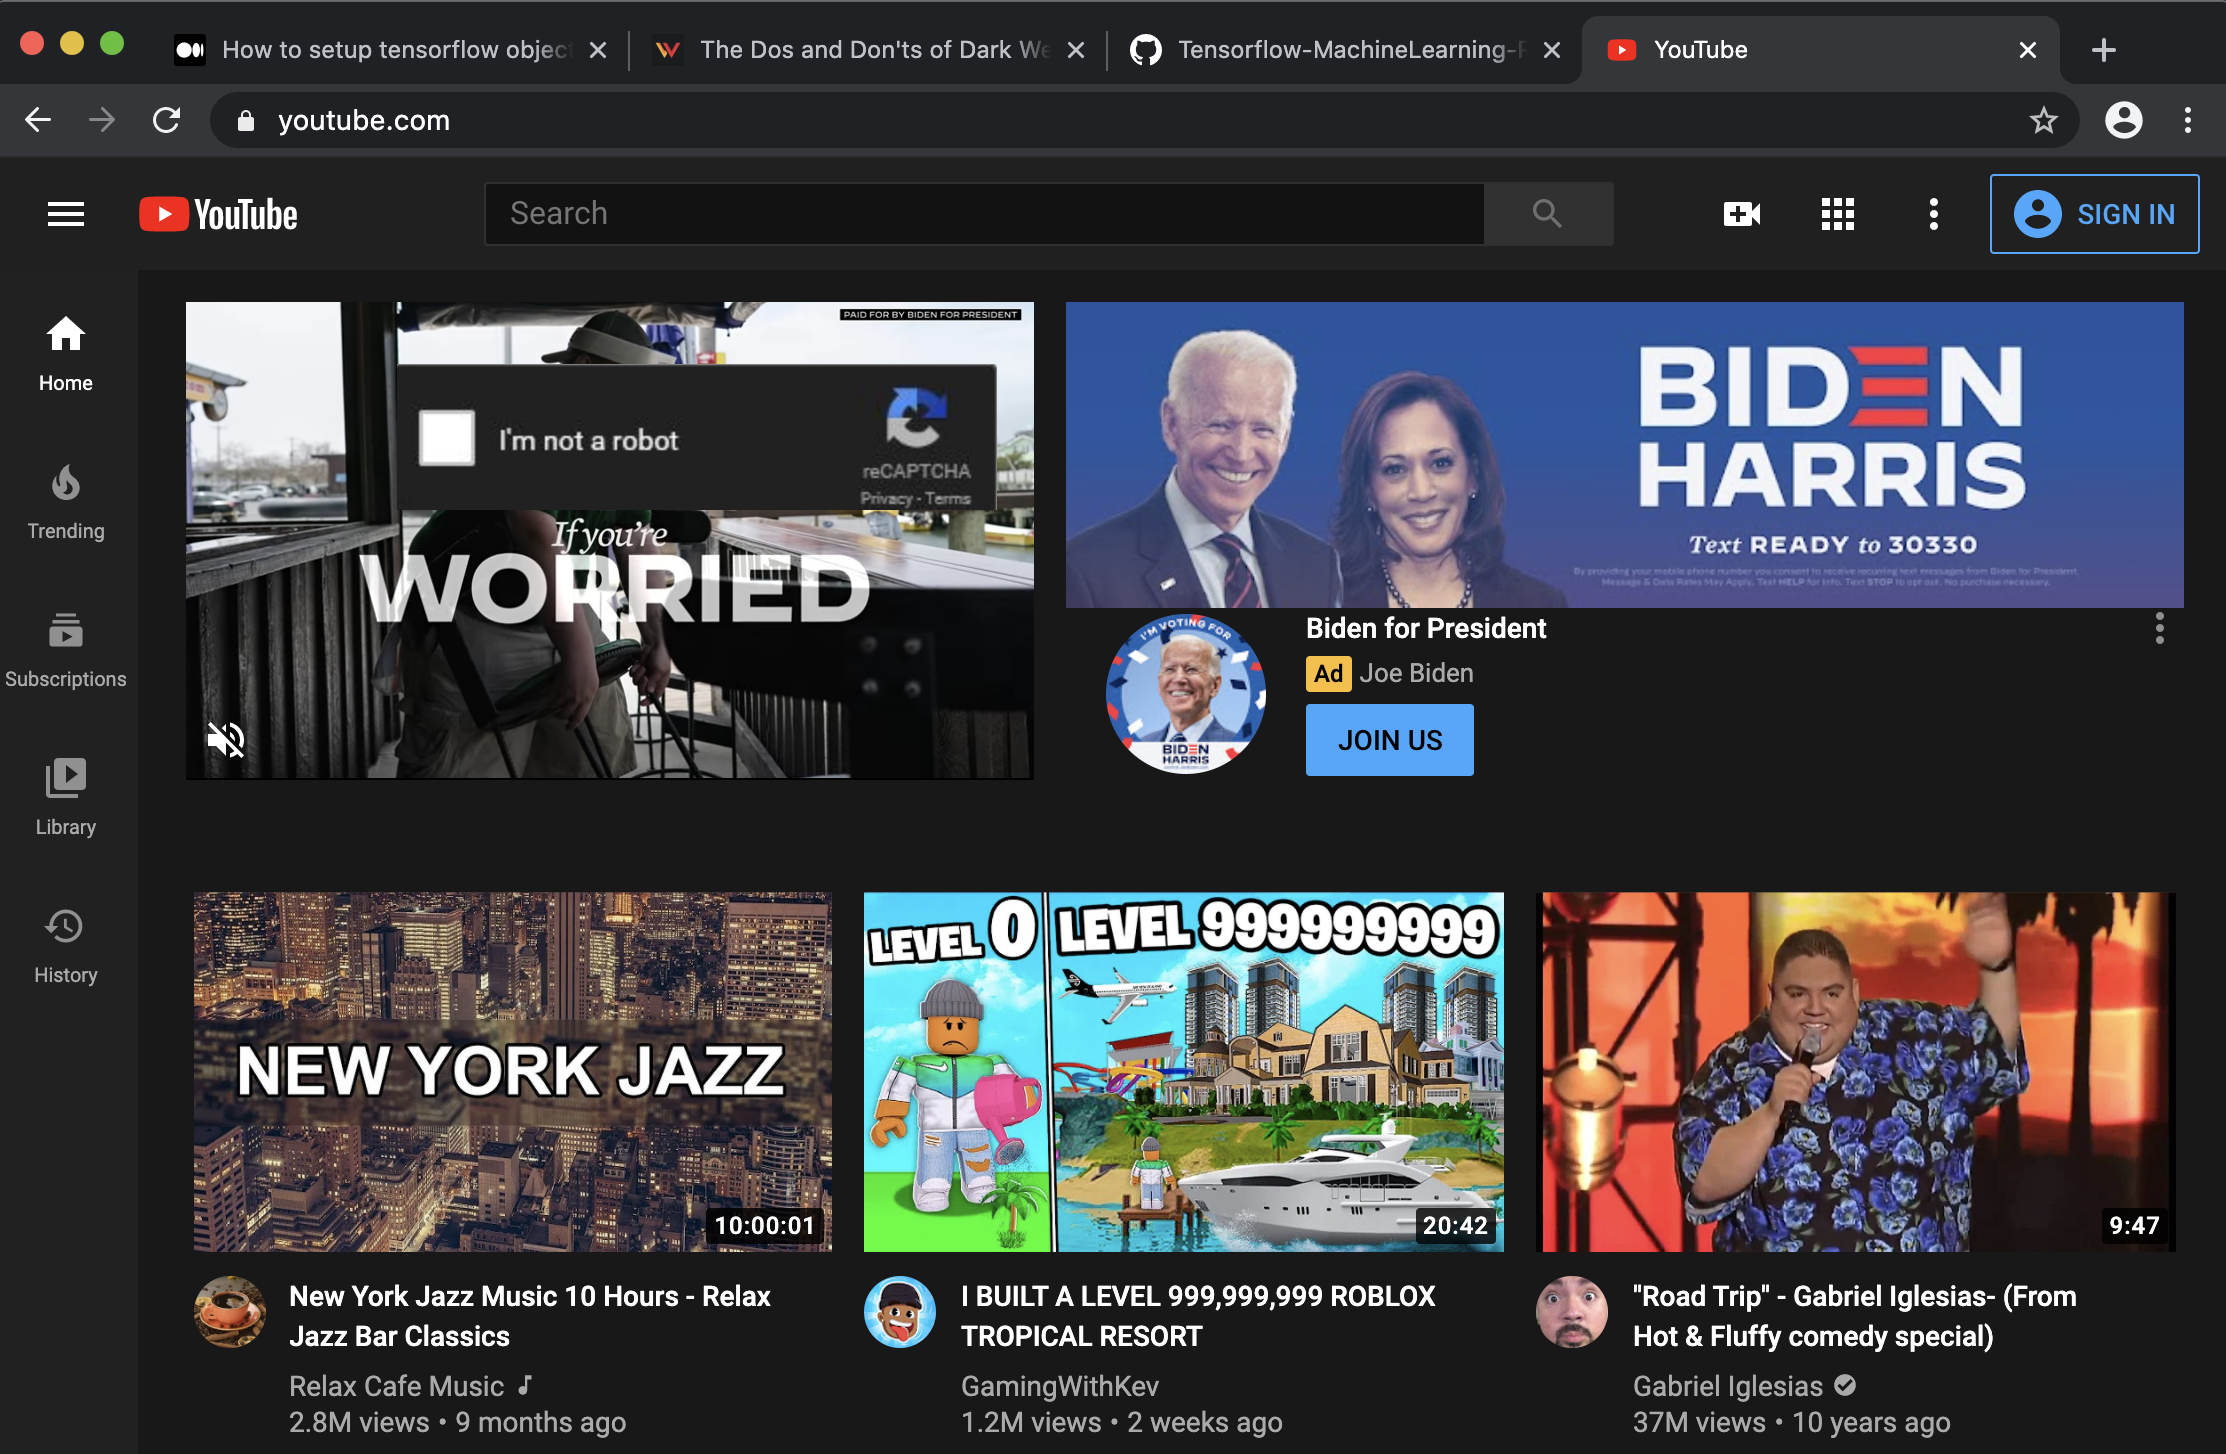captcha: (383, 351, 1019, 532)
